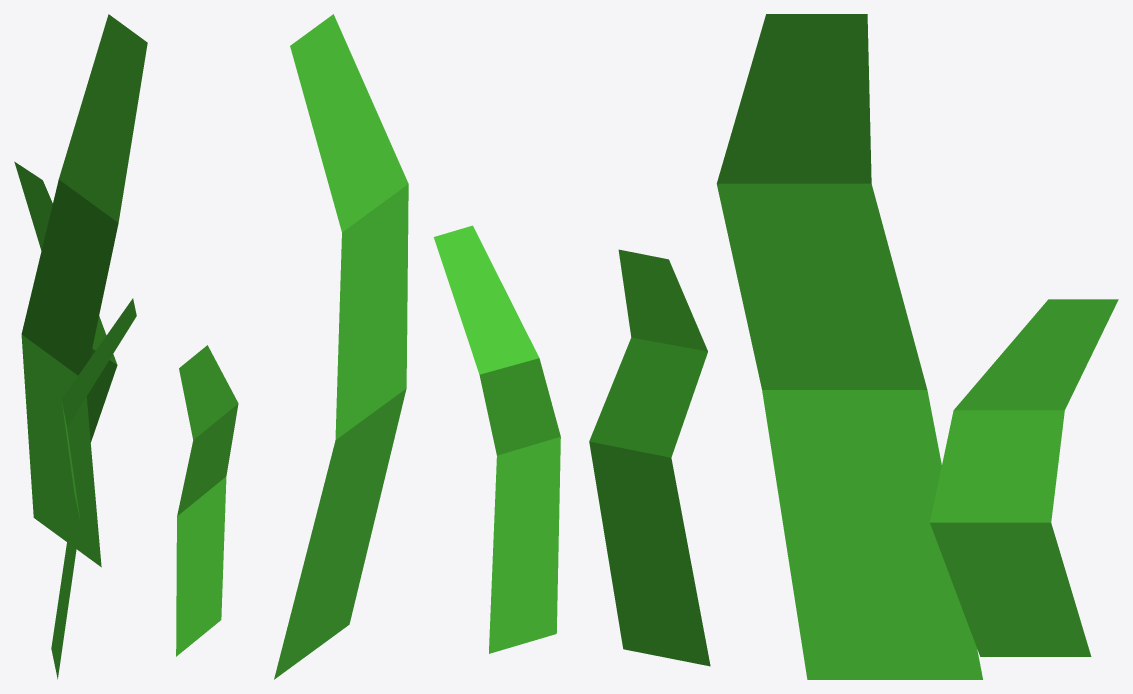
Rendered from Grass_1.fbx.
The picture shows the model from 3 angles, left to right: view 1: azimuth 30°, elevation 25°; view 2: azimuth 150°, elevation 25°; view 3: azimuth 270°, elevation 25°; orthographic projection. The views are drawn at different scales.
Parts seen in each view (by area): view 1: Grass_1; view 2: Grass_1; view 3: Grass_1.
Part boxes in pixels (x1=…): Grass_1: x1=14, y1=14, x2=147, y2=679; Grass_1: x1=176, y1=14, x2=560, y2=679; Grass_1: x1=589, y1=14, x2=1118, y2=679.
Size of the model in its own units: 0.2129 by 0.6412 by 0.4234.
